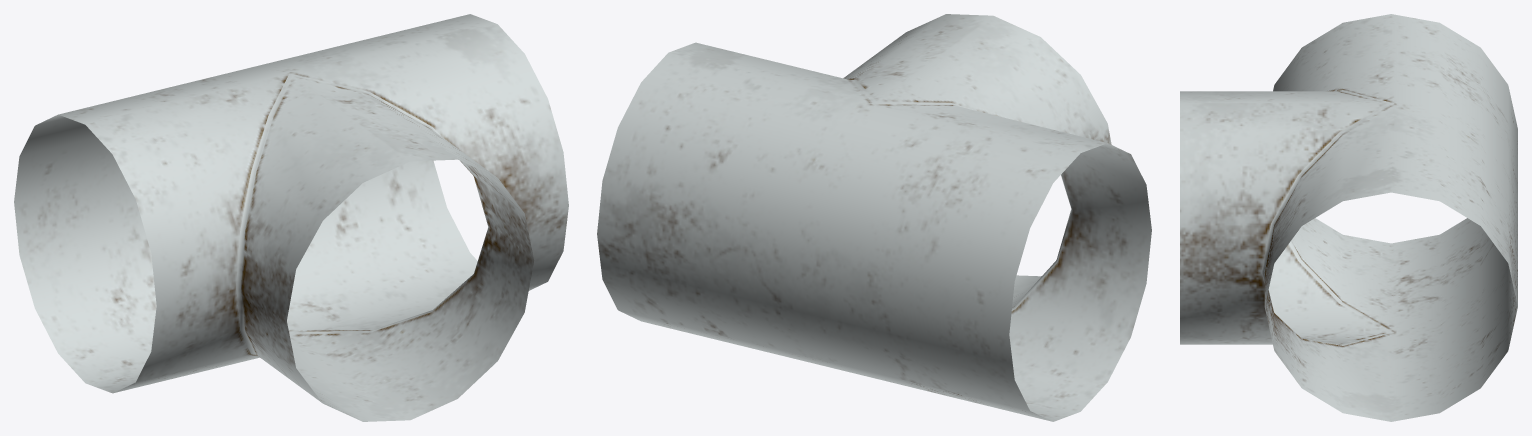
File: tee.glb
The picture shows the model from 3 angles, left to right: view 1: azimuth 30°, elevation 25°; view 2: azimuth 150°, elevation 25°; view 3: azimuth 270°, elevation 25°; orthographic projection. The views are drawn at different scales.
Parts seen in each view (by area): view 1: duct_tSection_low_3; view 2: duct_tSection_low_3; view 3: duct_tSection_low_3.
Part boxes in pixels (box(x1,y1,x2,y2)): duct_tSection_low_3: box(14, 14, 568, 421); duct_tSection_low_3: box(597, 14, 1151, 421); duct_tSection_low_3: box(1180, 14, 1517, 421).
Bounding box in the file's own units: 0.5 × 0.3 × 0.3998.
Materials: 1 (1 with a texture image).
